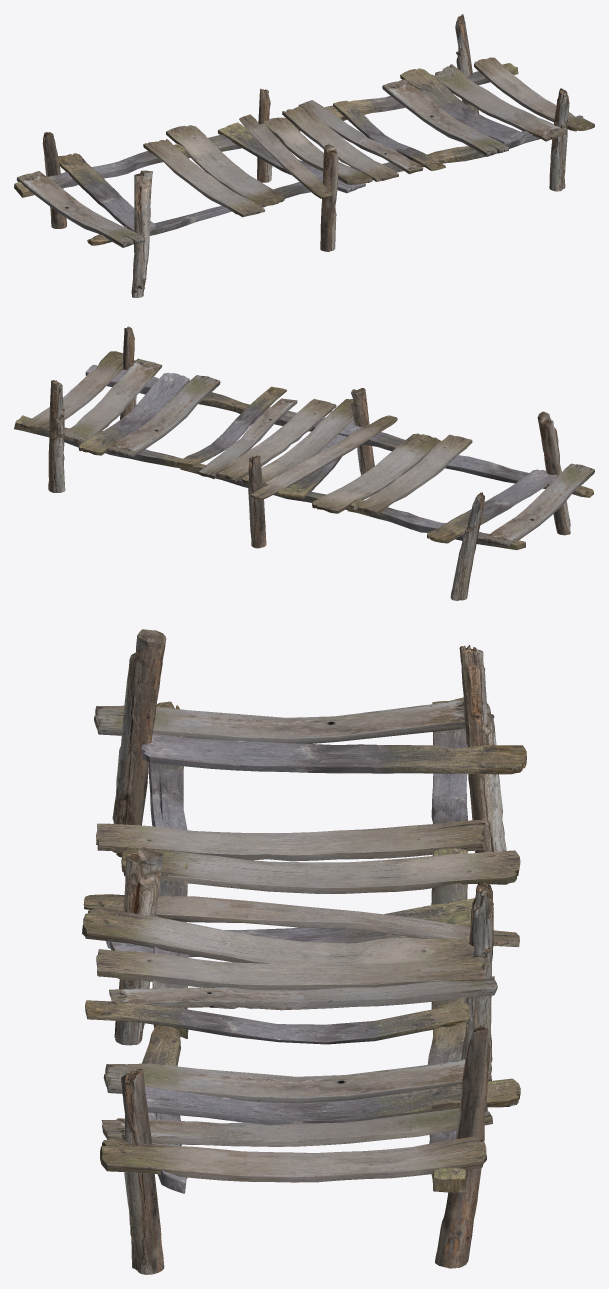
Rendered from SM_WoodPlank_01_19_bridge.fbx.
3 renders of one model, top to bottom at view 1: azimuth 30°, elevation 25°; view 2: azimuth 150°, elevation 25°; view 3: azimuth 270°, elevation 25°, orthographic. The views are drawn at different scales.
Visible parts, largest first — view 1: sm_WoodPlank_01_19_bridge_LOD0; view 2: sm_WoodPlank_01_19_bridge_LOD0; view 3: sm_WoodPlank_01_19_bridge_LOD0.
Boxes of the visible parts, left/top/right/bottom form: sm_WoodPlank_01_19_bridge_LOD0: left=14, top=14, right=594, bottom=297; sm_WoodPlank_01_19_bridge_LOD0: left=14, top=326, right=594, bottom=600; sm_WoodPlank_01_19_bridge_LOD0: left=82, top=629, right=526, bottom=1274.
Bounding box in the file's own units: 172 × 443 × 100.
